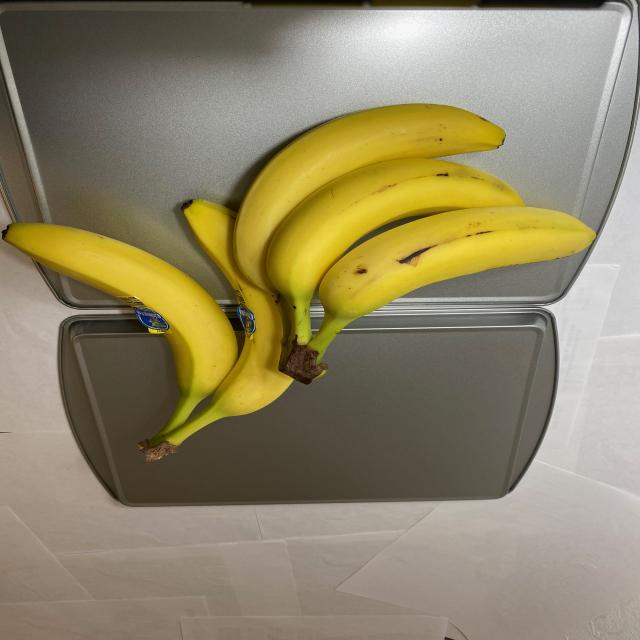banana: (5, 101, 596, 463)
